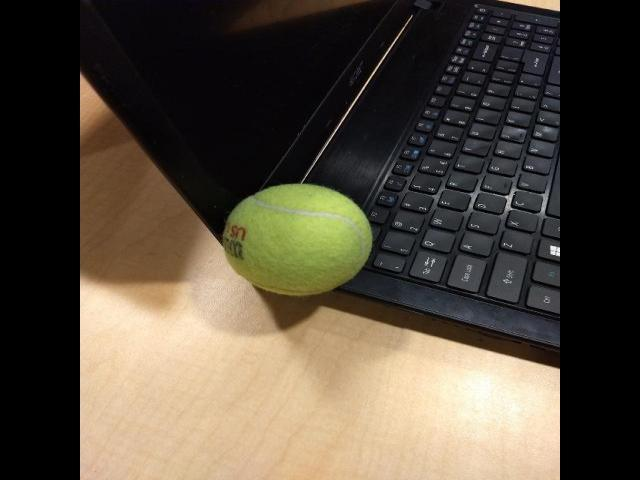tennis-ball: (220, 182, 374, 300)
